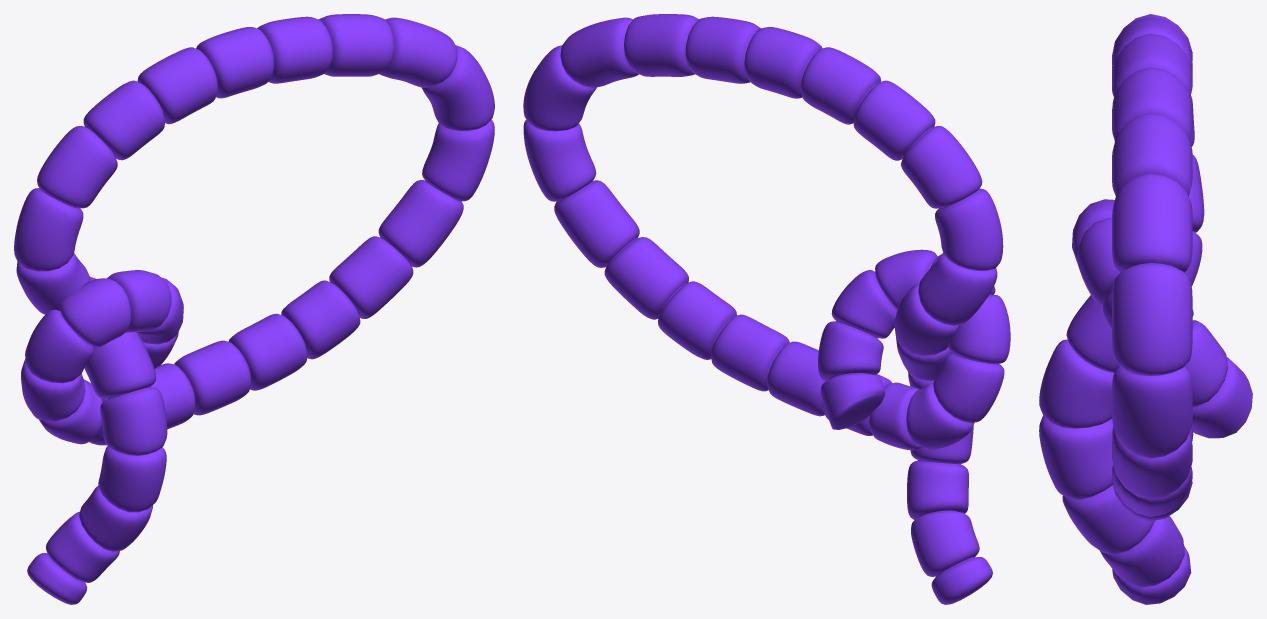
The picture shows the model from 3 angles, left to right: view 1: azimuth 30°, elevation 25°; view 2: azimuth 150°, elevation 25°; view 3: azimuth 270°, elevation 25°; orthographic projection. The views are drawn at different scales.
Parts seen in each view (by area): view 1: 12; view 2: 12; view 3: 12.
Boxes of the visible parts, left/top/right/bottom form: 12: left=14, top=14, right=494, bottom=604; 12: left=523, top=14, right=1010, bottom=604; 12: left=1039, top=14, right=1252, bottom=604.
Bounding box in the file's own units: 7.85 × 8.37 × 2.46.
